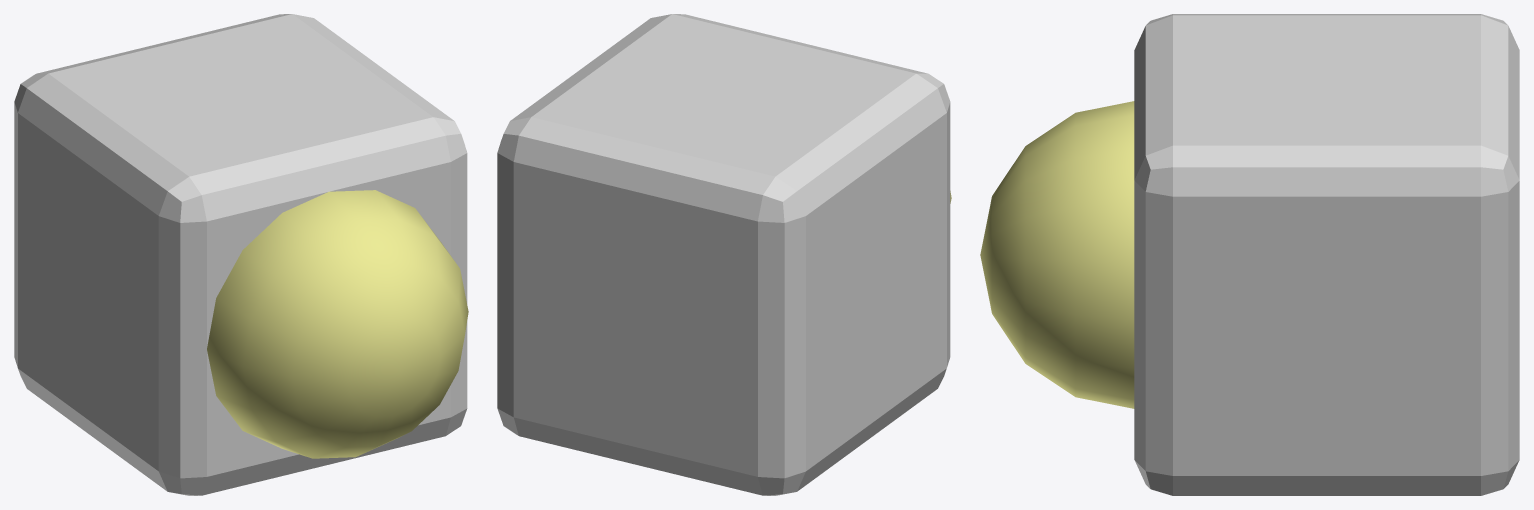
Rendered from led 1.fbx.
3 views of the same model, side by side, from view 1: azimuth 30°, elevation 25°; view 2: azimuth 150°, elevation 25°; view 3: azimuth 270°, elevation 25° (orthographic). The views are drawn at different scales.
Visible parts, largest first — view 1: led 1; view 2: led 1; view 3: led 1.
Part boxes in pixels (x1,y1,x2,y2): led 1: (14,14,468,495); led 1: (497,14,951,495); led 1: (980,14,1519,495).
Bounding box in the file's own units: 200 × 200 × 280.
